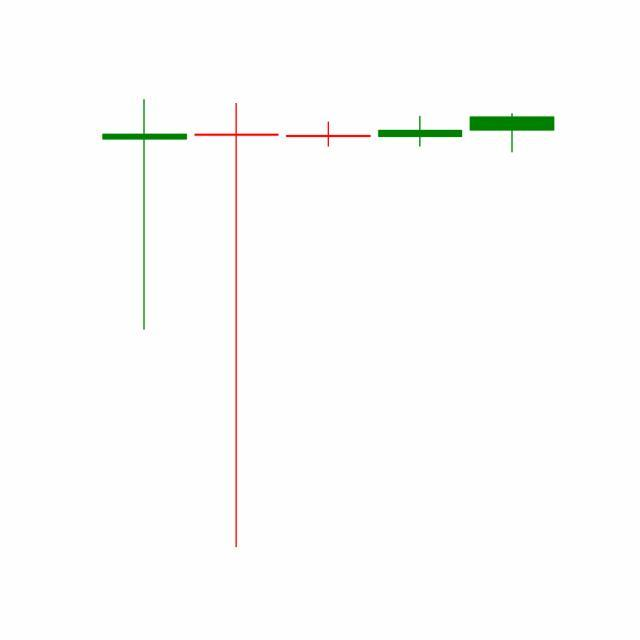Gravestone Doji: (374, 115, 468, 147)
